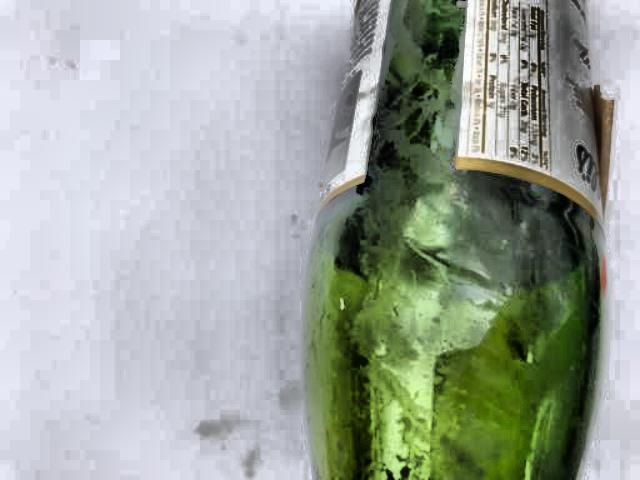Bottles: (295, 0, 636, 480)
